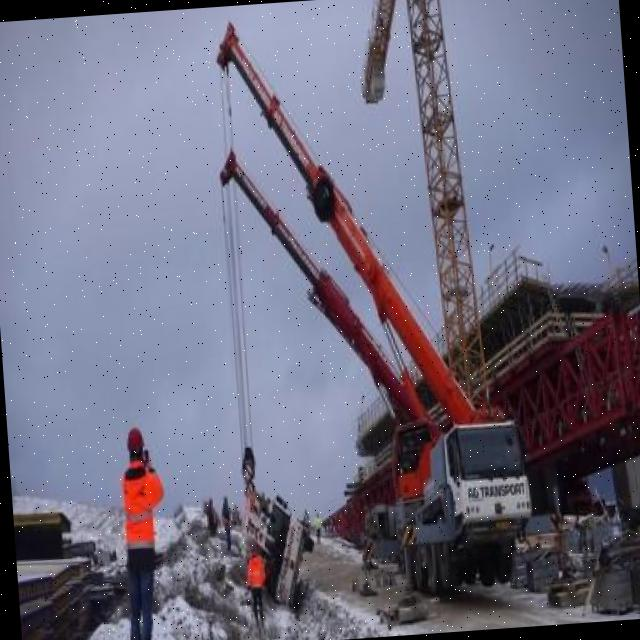Mobile Crane: (202, 1, 536, 612)
